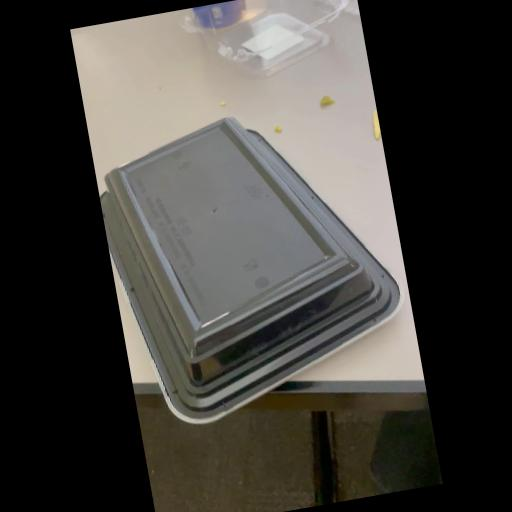rigid_plastic_container: (93, 98, 413, 426)
small_plastic_container: (179, 0, 359, 90)
